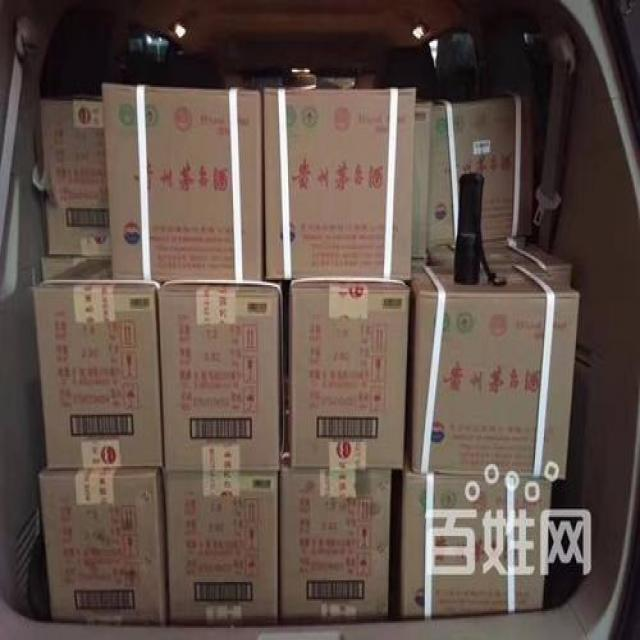box: (407, 263, 578, 482), (101, 78, 262, 294), (263, 78, 407, 286), (35, 256, 162, 475), (287, 281, 411, 471), (164, 282, 284, 472), (41, 473, 171, 629), (167, 470, 282, 634), (282, 474, 394, 622), (426, 104, 524, 244), (38, 98, 112, 256)
